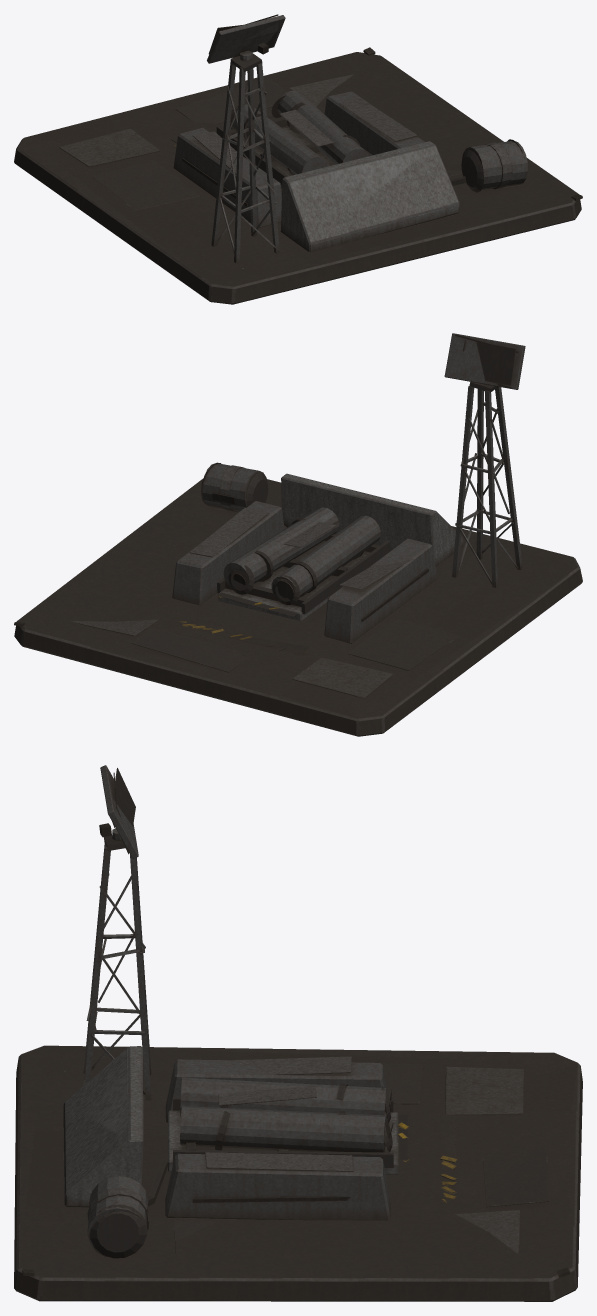
The model's file is chs_cerberus_wreck.fbx.
3 views of the same model, one above another, from view 1: azimuth 30°, elevation 25°; view 2: azimuth 150°, elevation 25°; view 3: azimuth 270°, elevation 25° (orthographic). The views are drawn at different scales.
Parts seen in each view (by area): view 1: base_bar, launcher_bar, radar_bar; view 2: base_bar, launcher_bar, radar_bar; view 3: base_bar, launcher_bar, radar_bar.
Part boxes in pixels (box(x1,y1,x2,y2)): base_bar: box(14, 47, 582, 304); launcher_bar: box(216, 90, 372, 188); radar_bar: box(207, 14, 285, 63); base_bar: box(14, 382, 582, 736); launcher_bar: box(217, 507, 390, 621); radar_bar: box(444, 333, 525, 389); base_bar: box(14, 835, 582, 1301); launcher_bar: box(168, 1077, 409, 1174); radar_bar: box(99, 765, 138, 858).
Size of the model in its own units: 2316 by 1665 by 2327.
2 materials, 2 textured.
